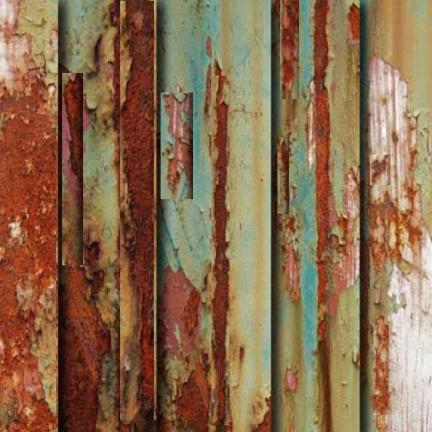karat: (360, 0, 431, 431), (59, 0, 119, 431), (0, 0, 57, 431), (116, 0, 155, 431), (59, 260, 109, 431), (307, 0, 329, 310), (212, 60, 229, 431), (161, 86, 192, 199), (162, 266, 201, 355), (62, 73, 83, 209), (176, 362, 209, 431), (280, 0, 298, 98), (317, 312, 329, 395)
